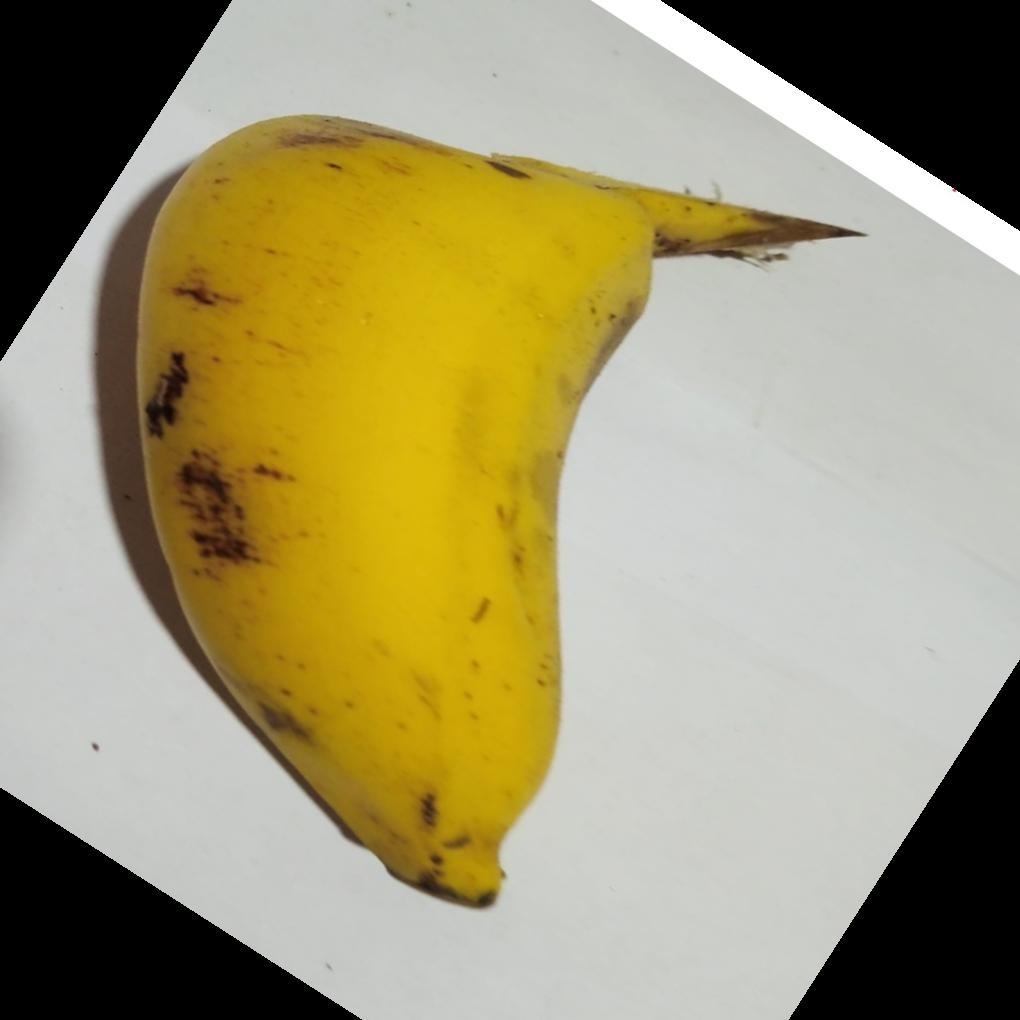Banana Ripe: (128, 107, 784, 939)
